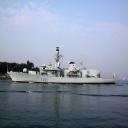Fragata: (8, 48, 120, 86)
